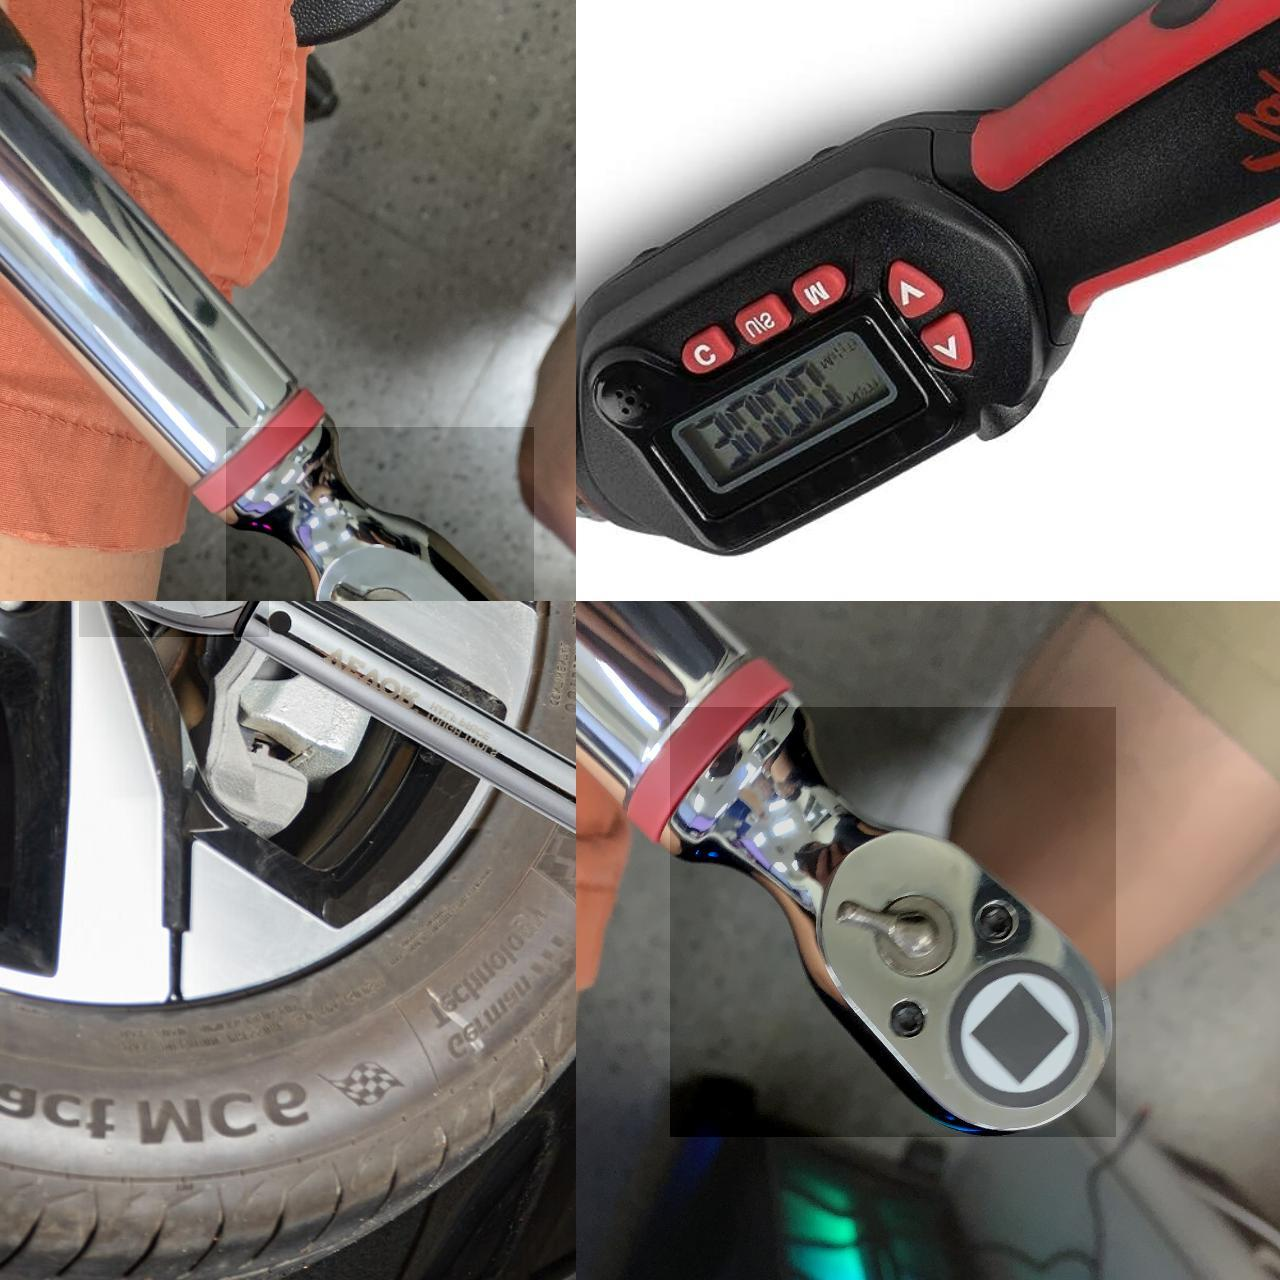Tool: (668, 706, 1116, 1136), (225, 426, 533, 601), (78, 601, 268, 636)
